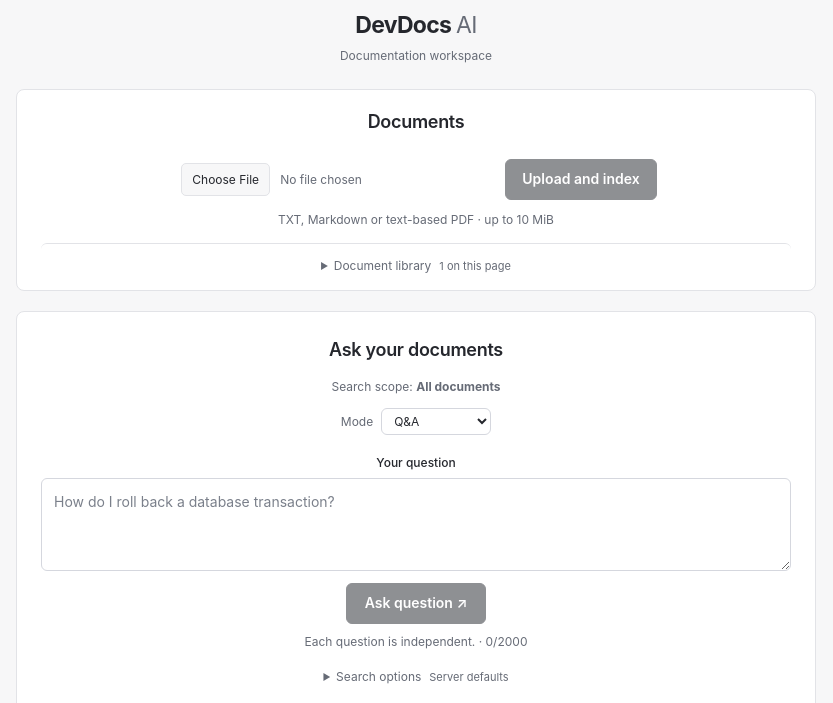
Test: documentation workspace › does not assume pre-existing documents have been indexed
Click the heading "Document library1 on this page" at (422, 266), box 334,258 -> 511,273
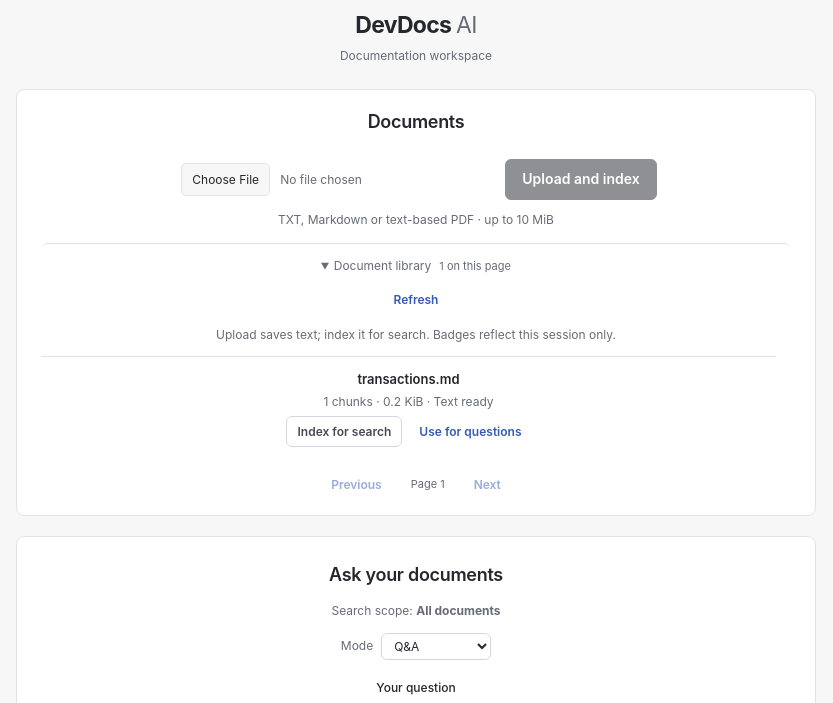
Expected: the button with aria-label "Use for questions: transactions.md" is shown, 410,416 -> 530,447
